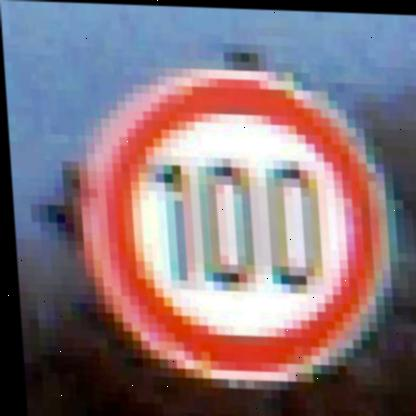Speed Limit -100-: (60, 62, 406, 397)
